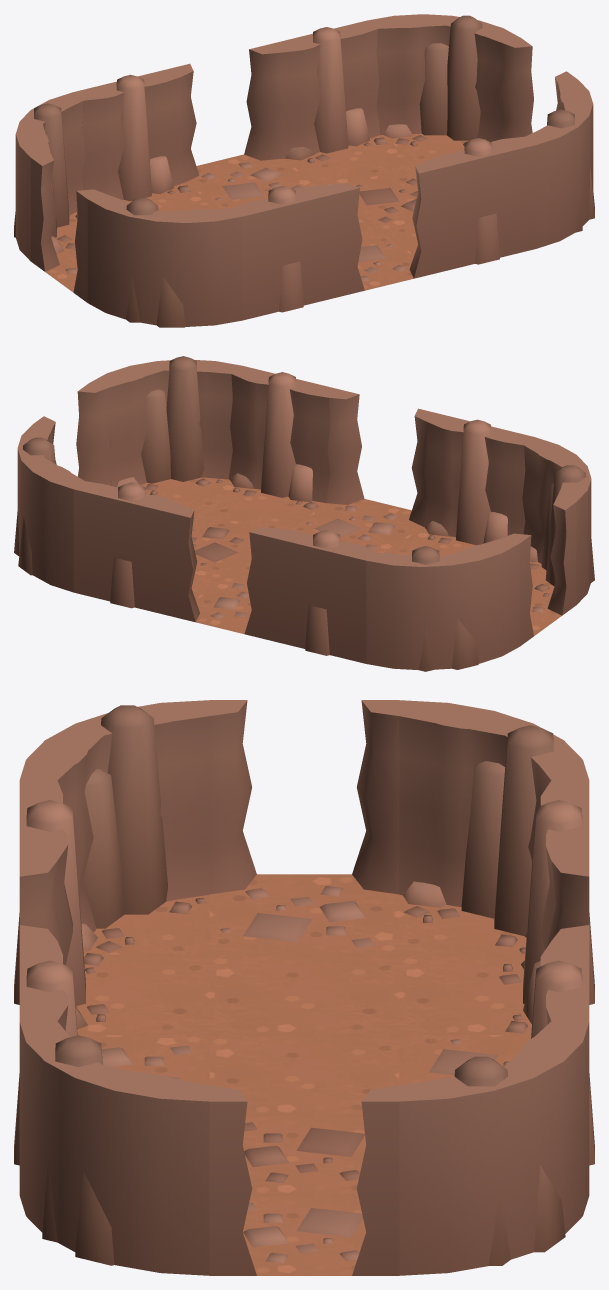
Rendered from room-wide.obj.
The picture shows the model from 3 angles, top to bottom: view 1: azimuth 30°, elevation 25°; view 2: azimuth 150°, elevation 25°; view 3: azimuth 270°, elevation 25°; orthographic projection. The views are drawn at different scales.
Parts seen in each view (by area): view 1: room-wide; view 2: room-wide; view 3: room-wide.
Part boxes in pixels (bbox=[...]): room-wide: bbox=[14, 14, 594, 327]; room-wide: bbox=[14, 356, 594, 671]; room-wide: bbox=[14, 700, 594, 1275].
Bounding box in the file's own units: 20 × 4.4 × 12.23.
1 material, 1 textured.
